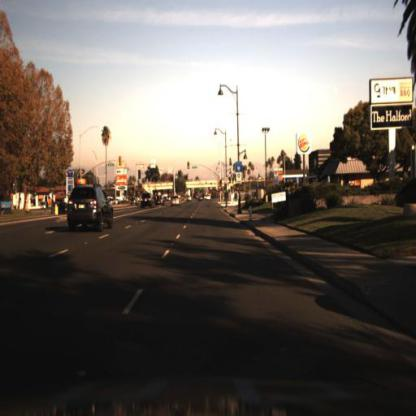car: (65, 183, 118, 242), (140, 194, 157, 212), (141, 195, 155, 211), (154, 193, 165, 212), (58, 200, 70, 217), (170, 196, 182, 210), (172, 193, 182, 209)
